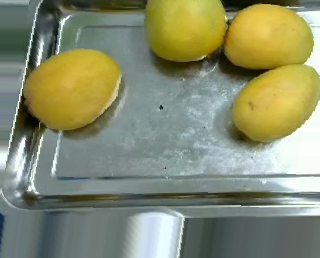Mango: (21, 48, 120, 128), (233, 63, 320, 144), (225, 3, 313, 68), (145, 0, 226, 60)
